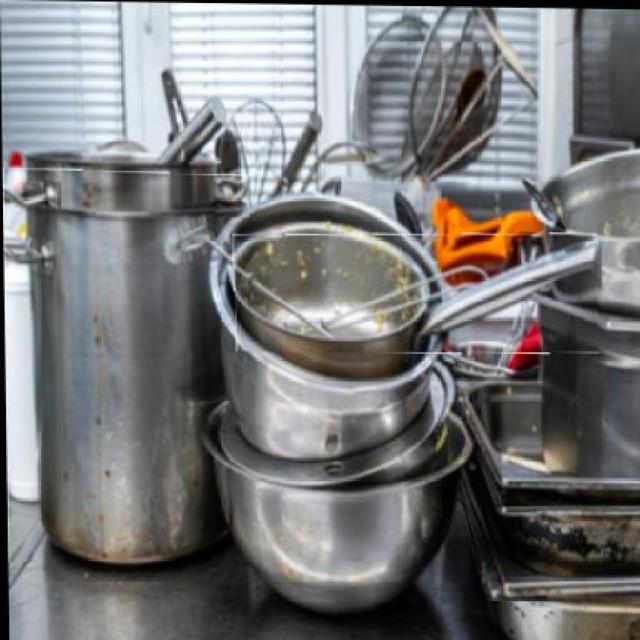pot: (3, 198, 221, 567), (232, 230, 600, 356), (2, 168, 250, 217)
